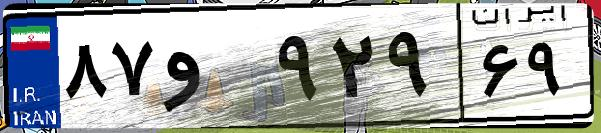2: (330, 28, 385, 110)
6: (475, 38, 525, 113)
7: (110, 28, 158, 98)
8: (57, 26, 110, 100)
9: (270, 28, 330, 110), (385, 28, 445, 110), (525, 38, 570, 115)
و: (158, 20, 270, 120)
